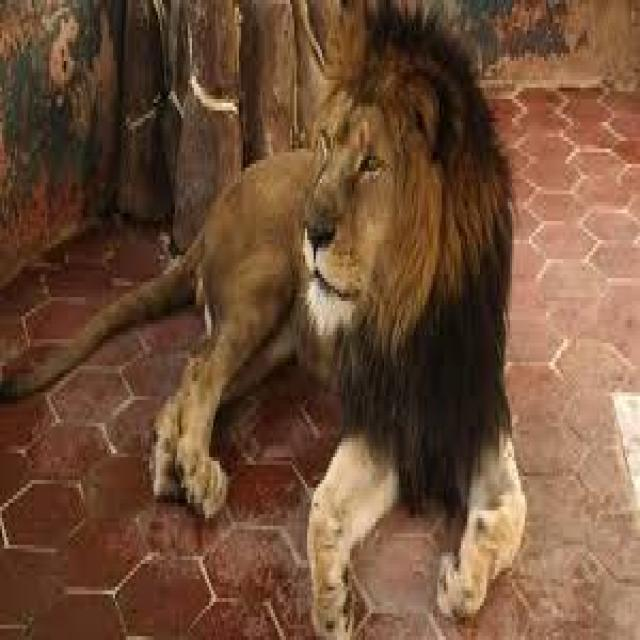Lion: (9, 12, 527, 635)
